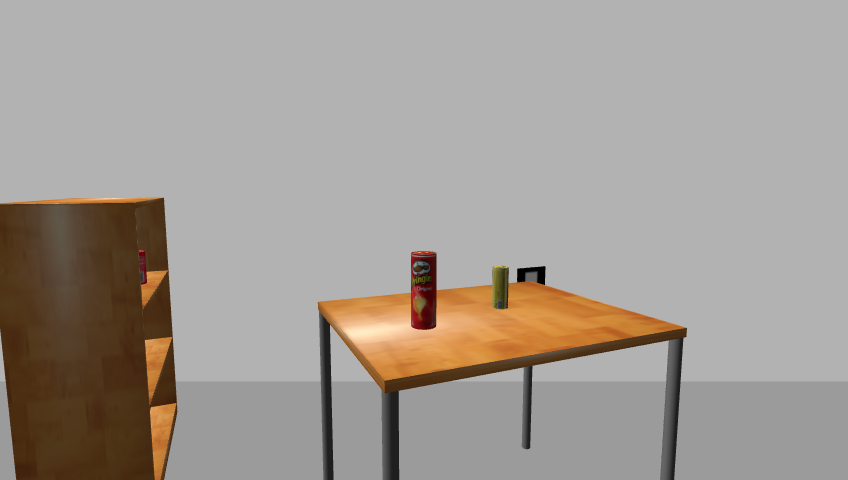aruco marker: (514, 265, 549, 288)
biscuits pack: (492, 265, 509, 311)
bookshelf: (0, 196, 181, 479)
coke can: (136, 250, 148, 284)
dinner table: (310, 281, 696, 479)
pringles can: (408, 250, 439, 332)
